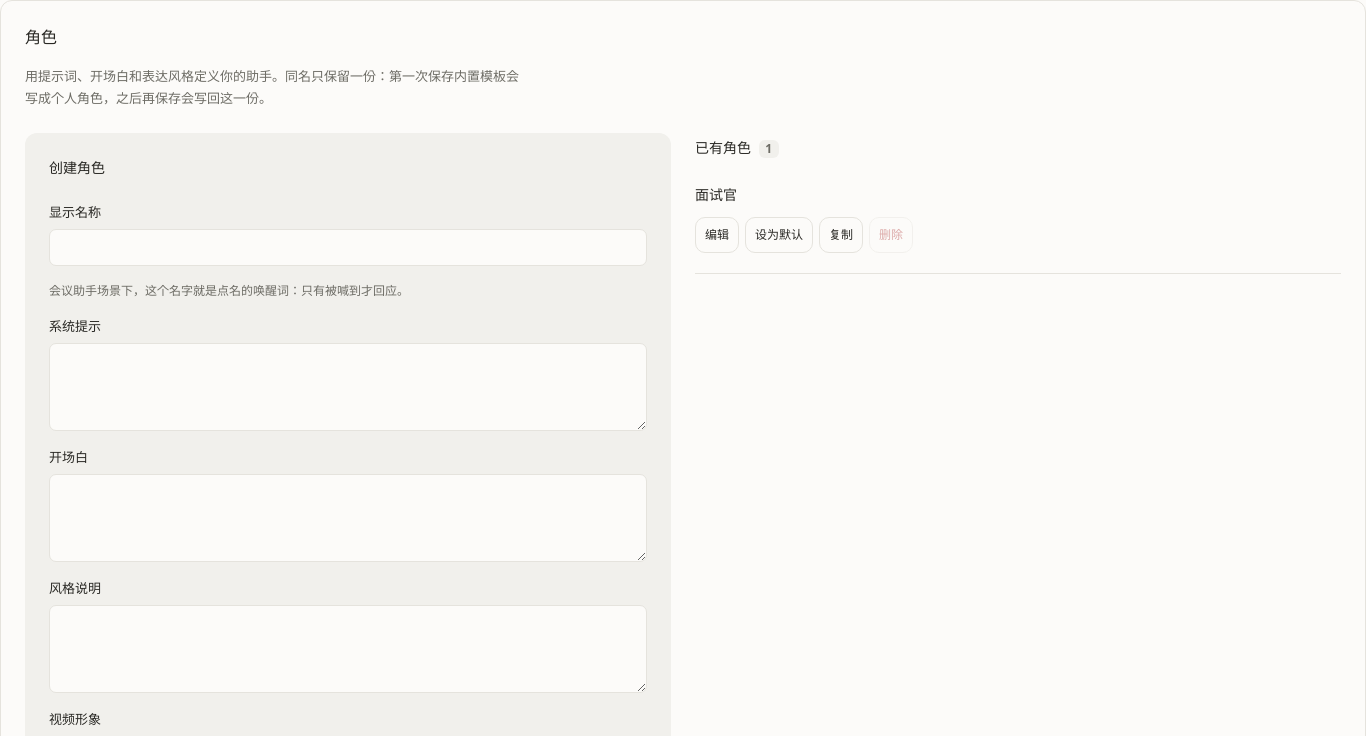
Test: RoleEditor › says an edited built-in role was written onto the current personal role
This screenshot has width=1366, height=736.
Click the button with aria-label "编辑 面试官".
click(717, 235)  # box [695,217,739,253]
(page scrolled)
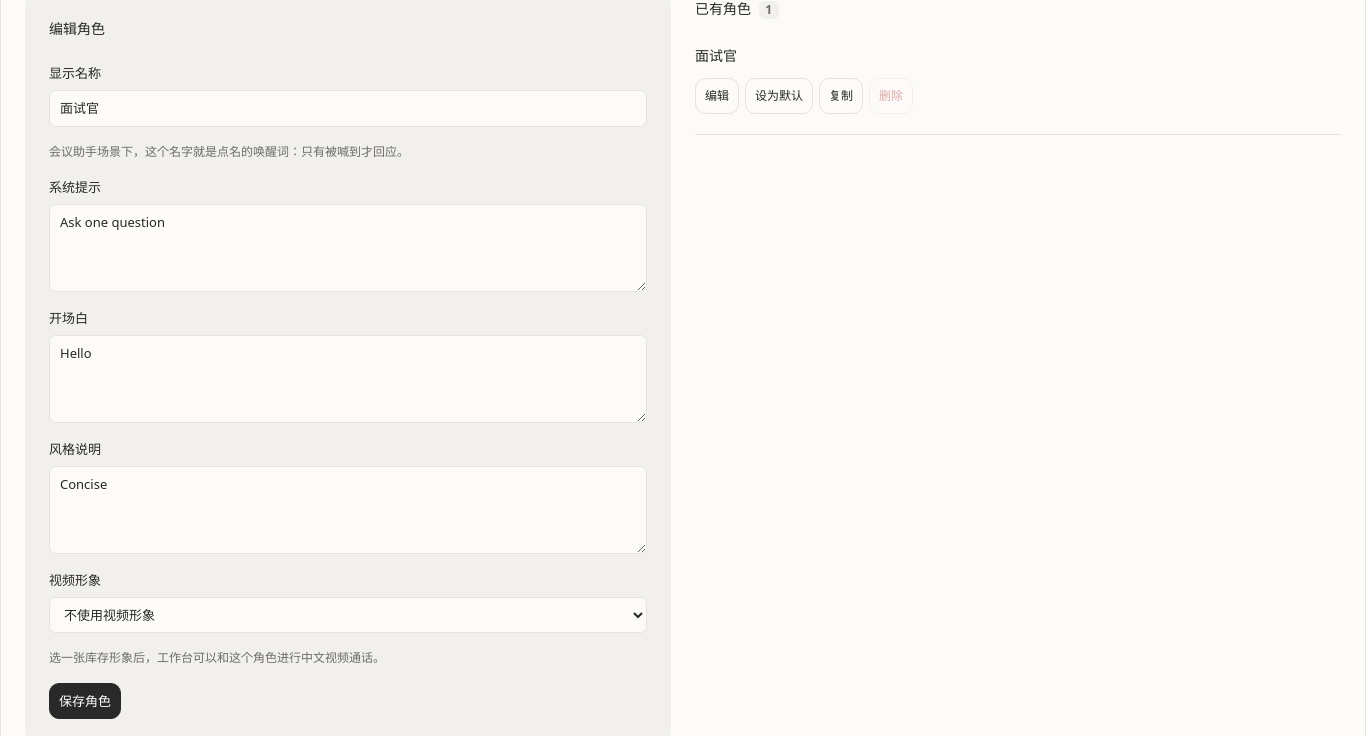
Click the button "保存角色".
click(85, 701)  # box [49,683,121,719]
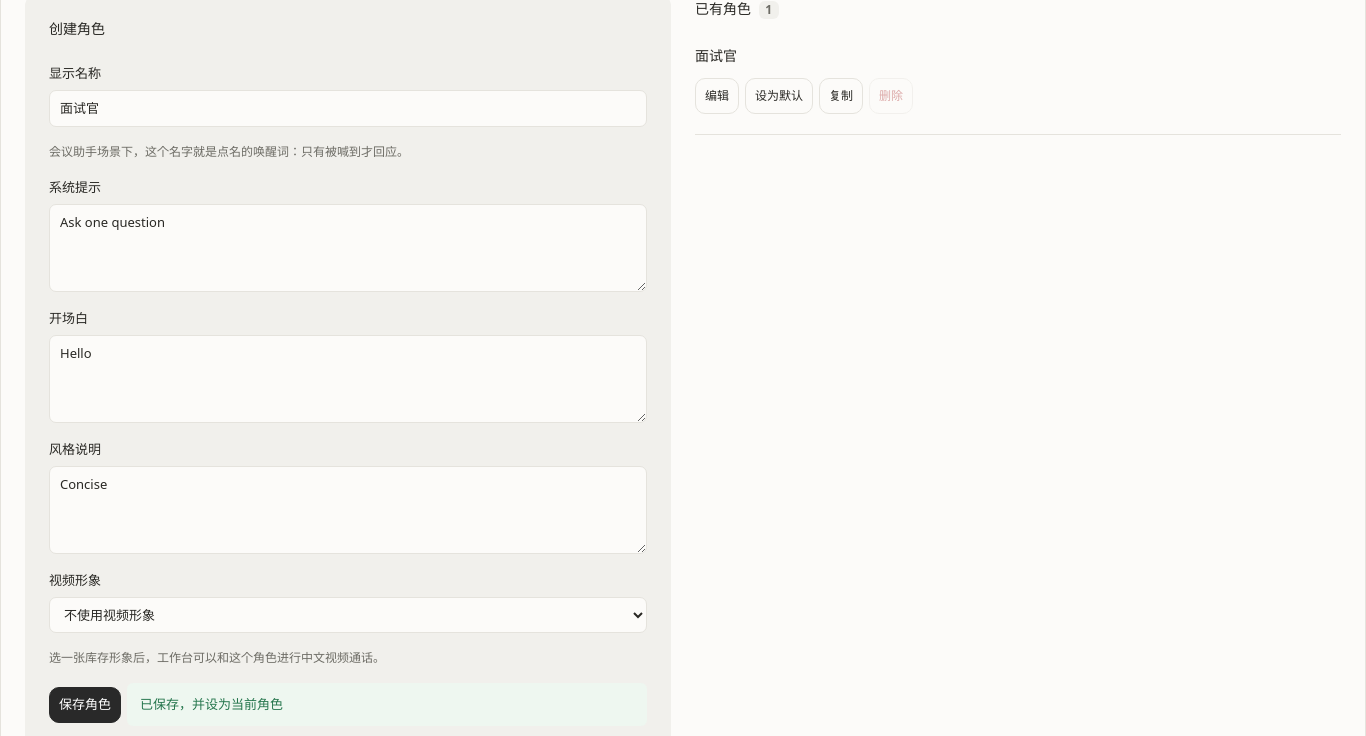
Result: the message reads "已保存，并设为当前角色" at [140,695,283,713]
